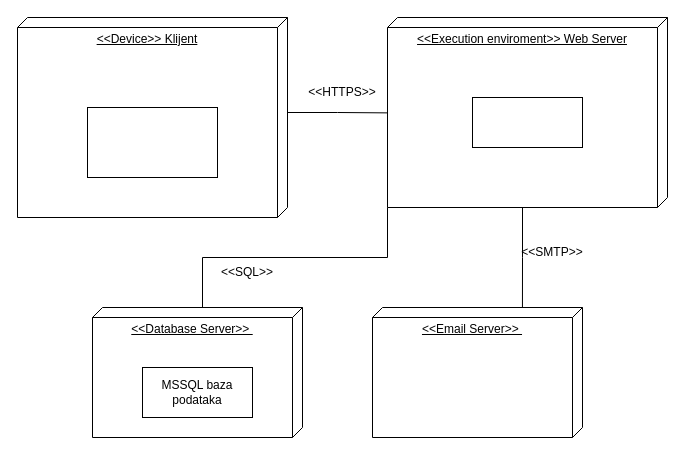
The diagram is 685 pixels wide and 455 high, and some of its shapes have lost their labels. Here are the shapes that lost their labels. From the top down, the centre of each, then its label:
point 152,142: Web browser
point 527,122: TimeForPill
